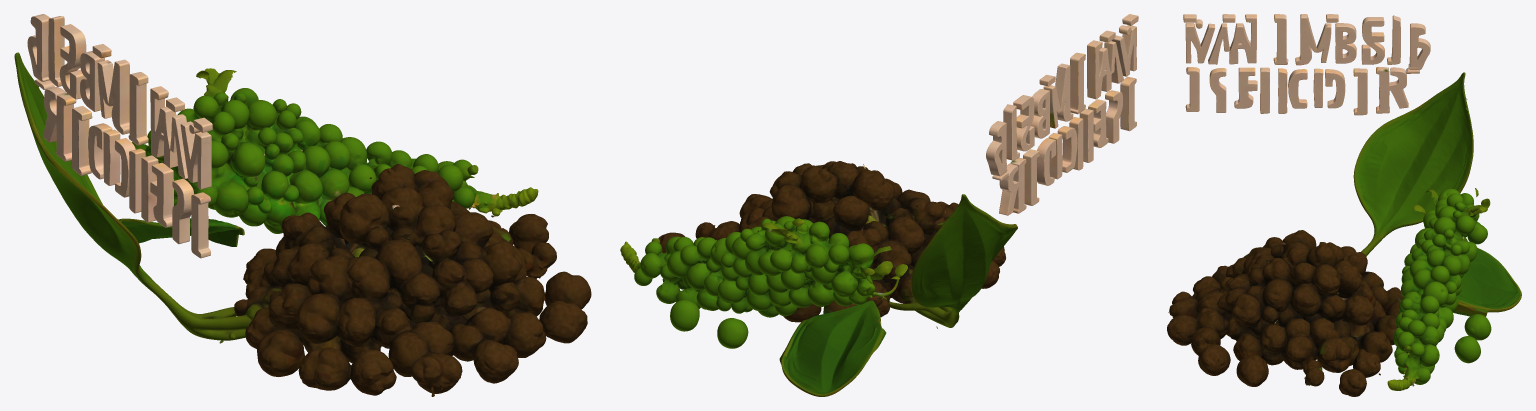
File: malabarPepper.glb
3 views of the same model, side by side, from view 1: azimuth 30°, elevation 25°; view 2: azimuth 150°, elevation 25°; view 3: azimuth 270°, elevation 25° (orthographic). The views are drawn at different scales.
Visible parts, largest first — view 1: tripo_node_1b2df583-466b-4f14-9e84-4a873f9ca65d; view 2: tripo_node_1b2df583-466b-4f14-9e84-4a873f9ca65d; view 3: tripo_node_1b2df583-466b-4f14-9e84-4a873f9ca65d.
Boxes of the visible parts, <box> form: tripo_node_1b2df583-466b-4f14-9e84-4a873f9ca65d: <box>14,14,591,396</box>; tripo_node_1b2df583-466b-4f14-9e84-4a873f9ca65d: <box>620,14,1138,396</box>; tripo_node_1b2df583-466b-4f14-9e84-4a873f9ca65d: <box>1167,14,1521,396</box>.
Bounding box in the file's own units: 1 × 0.6594 × 0.905.
1 material, 1 textured.
